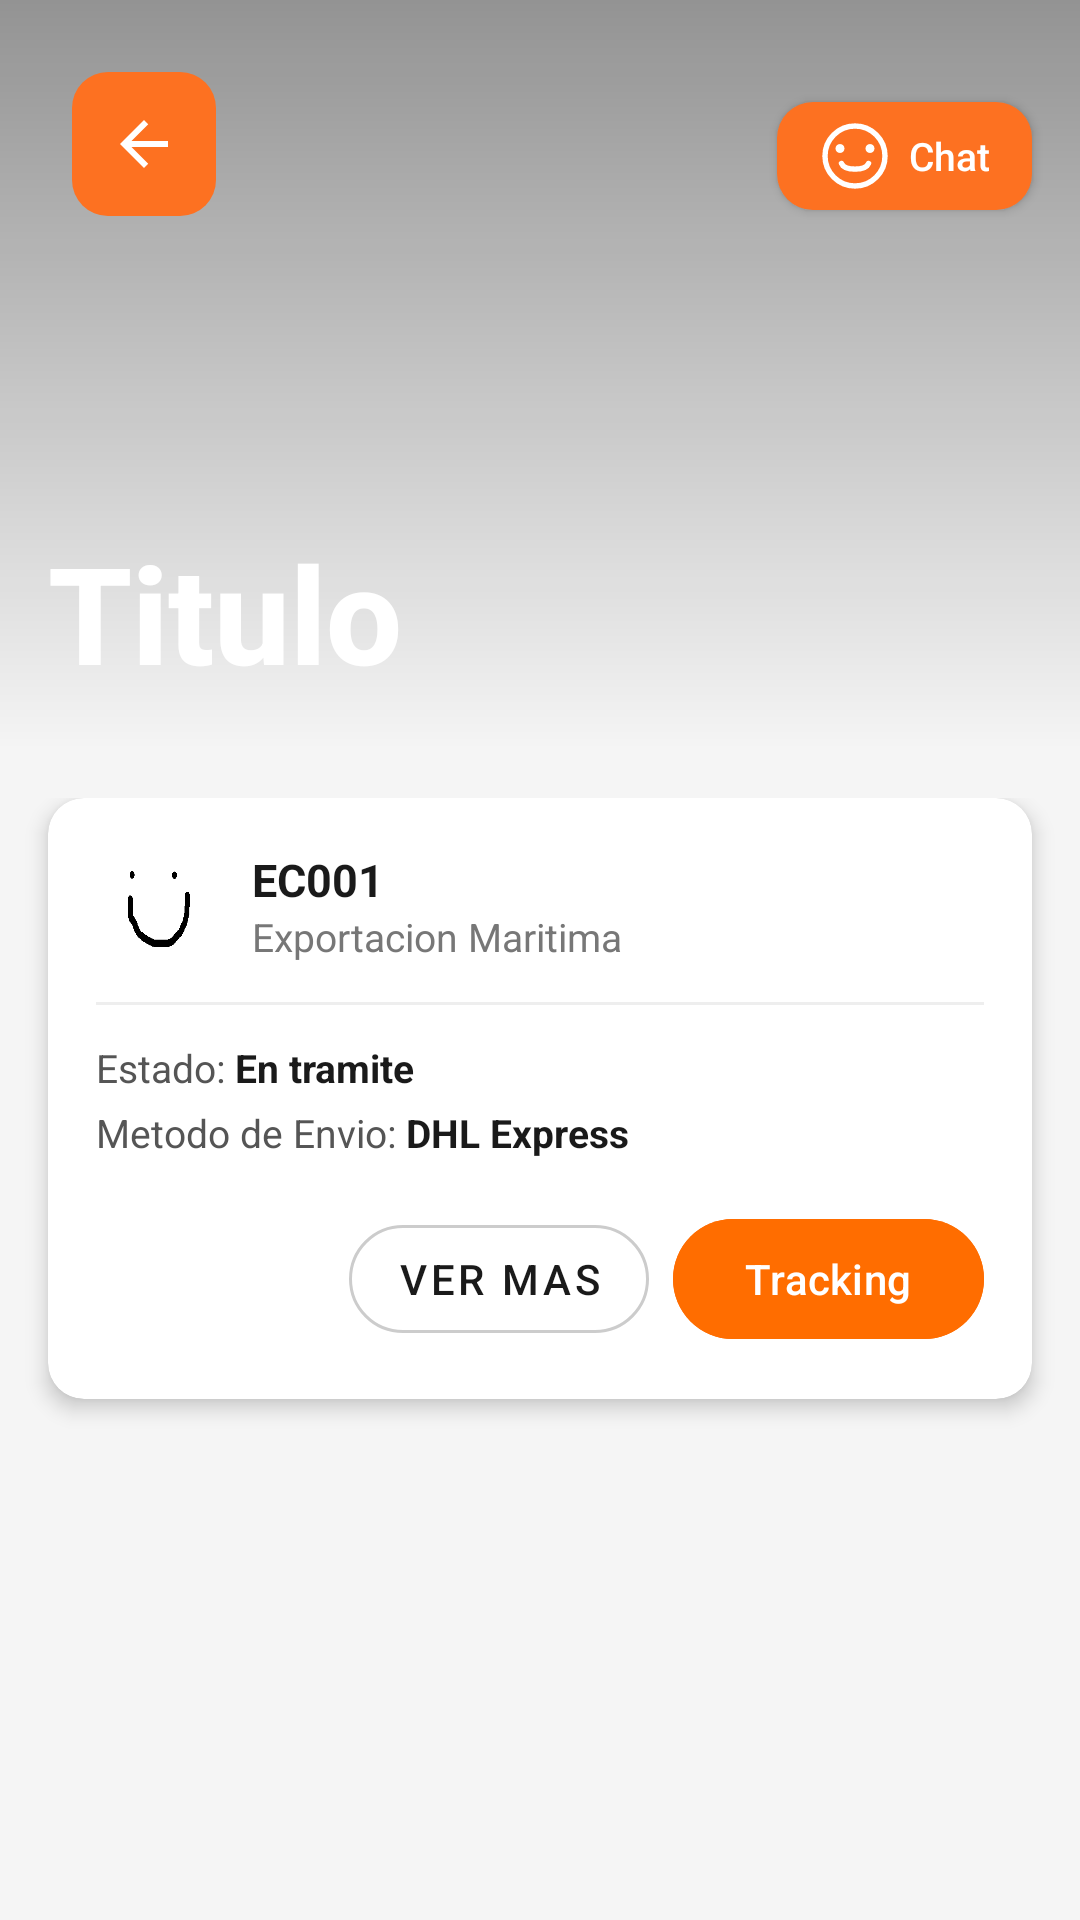

Screen size 1080 x 1920. Icon name, then its box in pixels as (x1, y1, x2, y2):
Atras: (72, 72, 216, 216)
